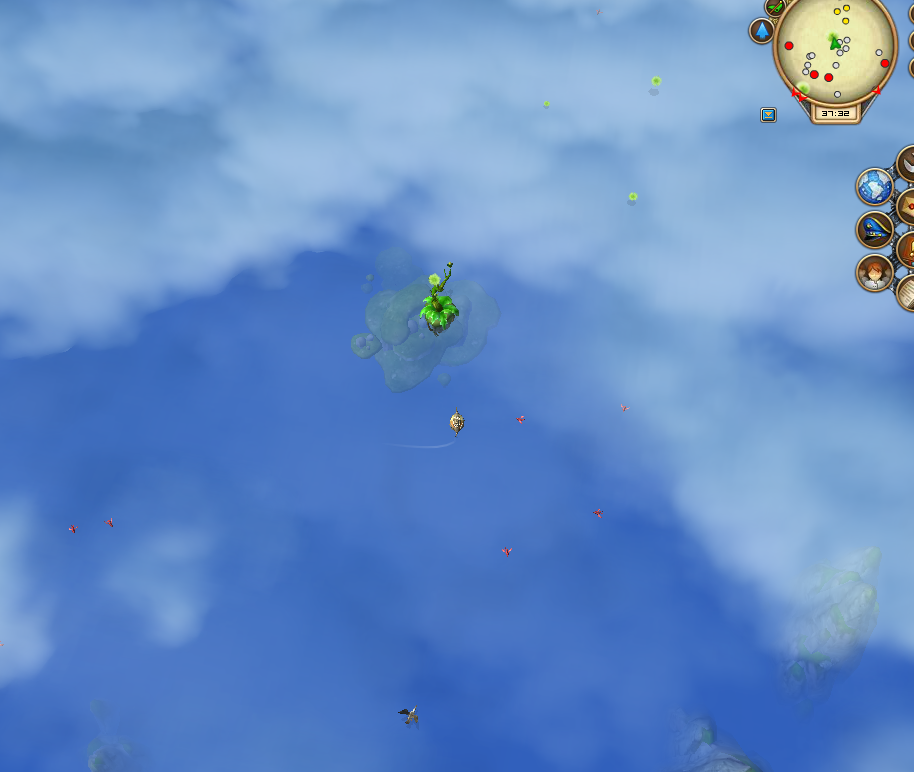dandelion-full: (411, 258, 464, 334)
fluff: (626, 187, 641, 204), (649, 73, 663, 90), (541, 98, 550, 109)
